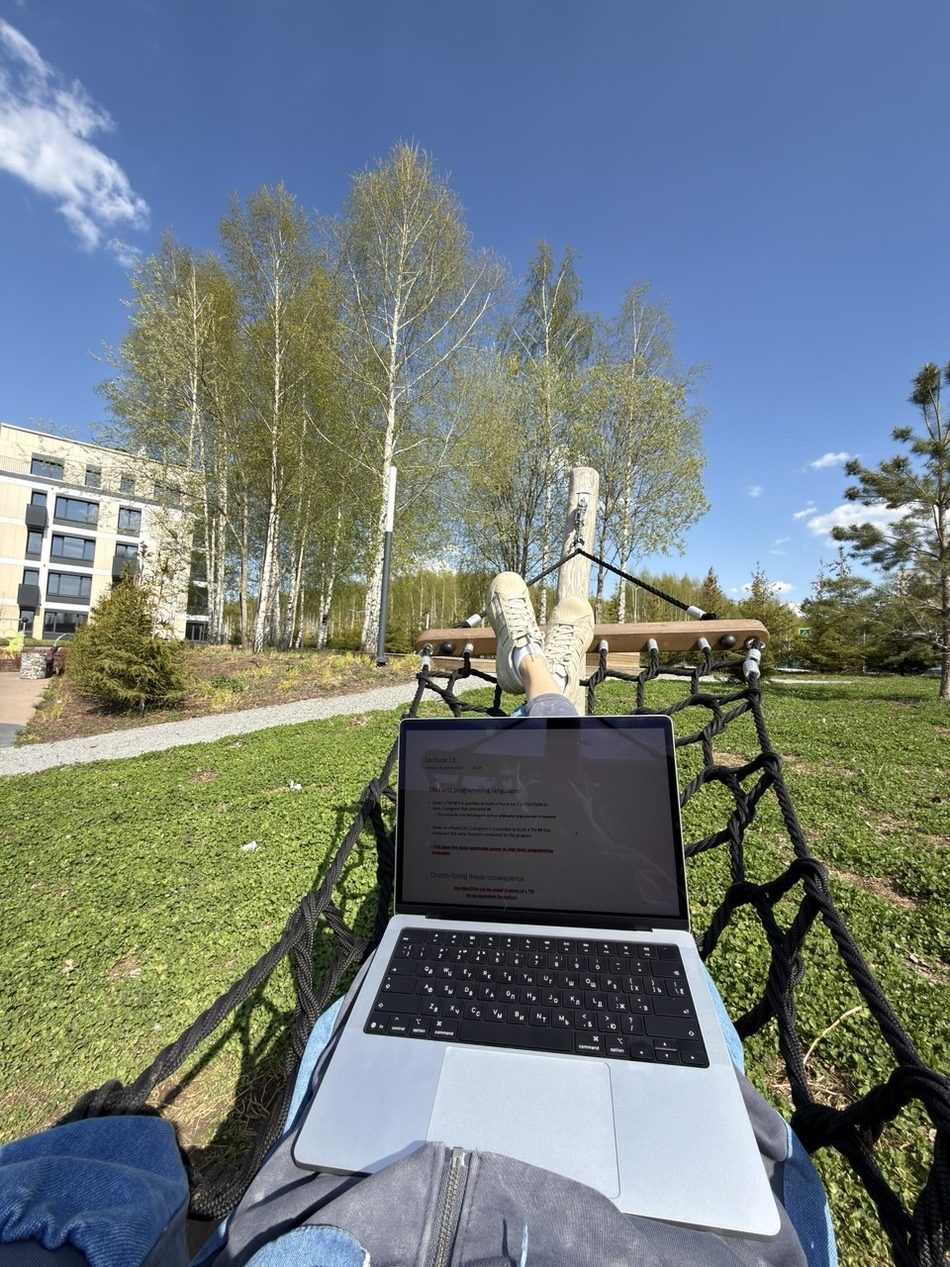laptop: (291, 712, 782, 1239)
